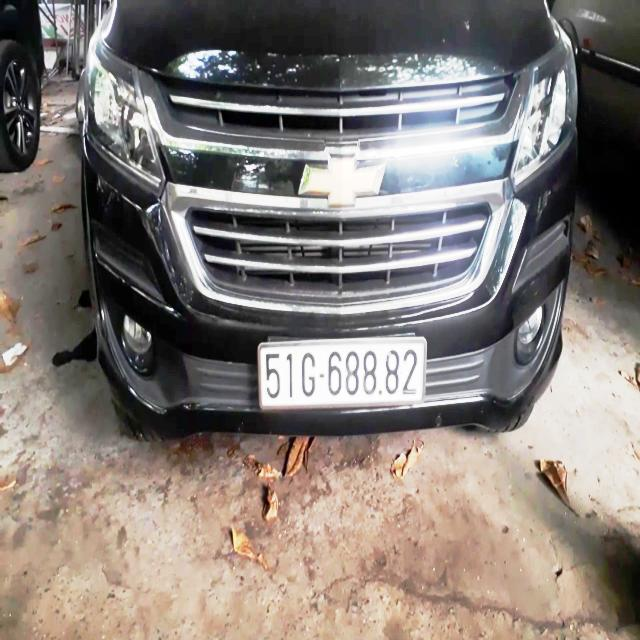license_plate: (263, 342, 424, 407)
